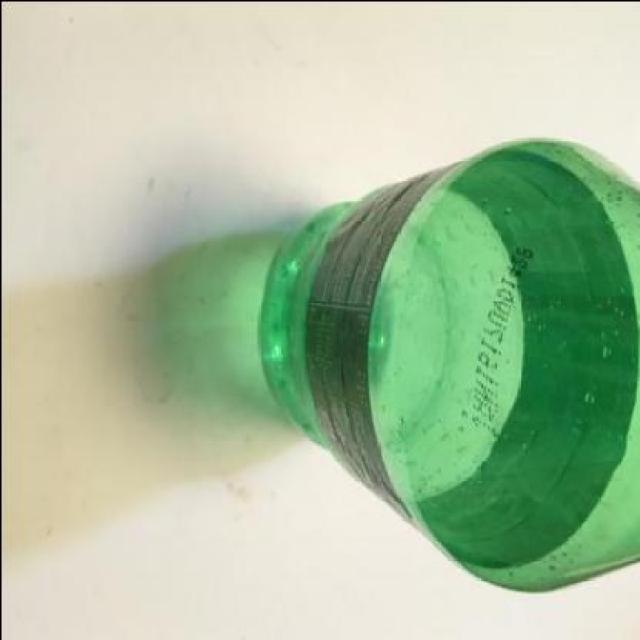PLASTIC: (257, 133, 638, 584), (305, 157, 472, 521)
